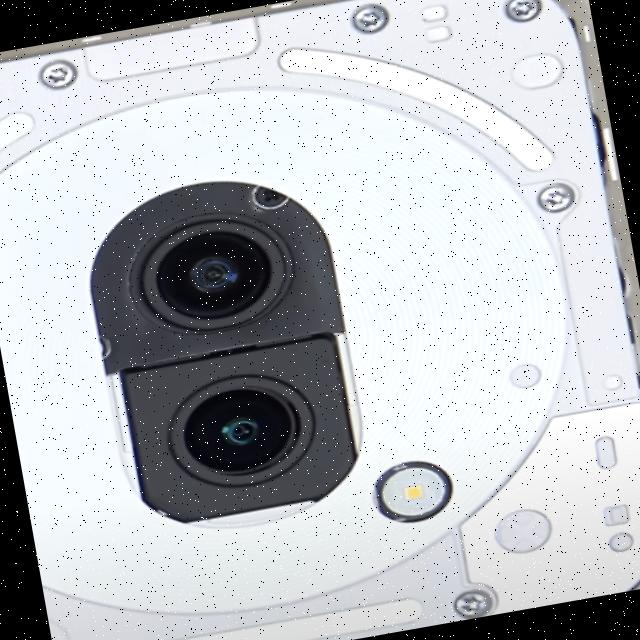Torx: (349, 1, 390, 35), (451, 588, 494, 620), (535, 182, 574, 214), (40, 60, 76, 88), (502, 0, 542, 23)
